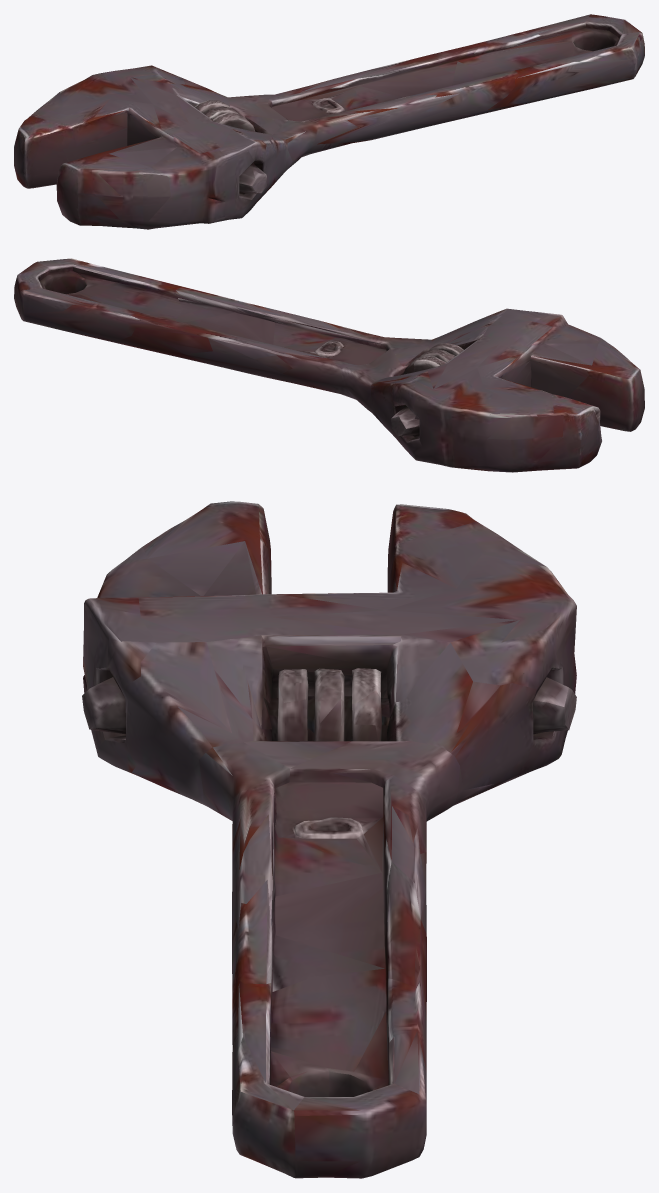
The model's file is tool_wrench_razvodnoy_idle.glb.
3 renders of one model, top to bottom at view 1: azimuth 30°, elevation 25°; view 2: azimuth 150°, elevation 25°; view 3: azimuth 270°, elevation 25°, orthographic. The views are drawn at different scales.
Visible parts, largest first — view 1: tripo_node_990fca77-111e-412f-9139-dc7c3e5e701b; view 2: tripo_node_990fca77-111e-412f-9139-dc7c3e5e701b; view 3: tripo_node_990fca77-111e-412f-9139-dc7c3e5e701b.
Boxes of the visible parts, x1,y1,x2,y2 form: tripo_node_990fca77-111e-412f-9139-dc7c3e5e701b: (14,14,644,229); tripo_node_990fca77-111e-412f-9139-dc7c3e5e701b: (14,258,644,472); tripo_node_990fca77-111e-412f-9139-dc7c3e5e701b: (82,501,576,1178).
Size of the model in its own units: 0.2999 by 0.0329 by 0.1082.
1 material, 1 textured.
